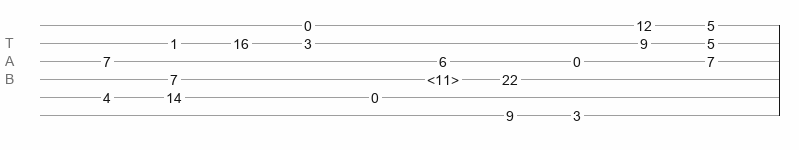0: (304, 18, 312, 28), (371, 90, 379, 100), (573, 54, 581, 64)
1: (170, 36, 178, 46)
12: (636, 18, 652, 28)
14: (166, 90, 182, 100)
16: (233, 36, 249, 46)
22: (502, 72, 518, 82)
3: (304, 36, 312, 46), (573, 108, 581, 118)
4: (103, 90, 111, 100)
5: (707, 18, 715, 28), (707, 36, 715, 46)
6: (439, 54, 447, 64)
7: (103, 54, 111, 64), (170, 72, 178, 82), (707, 54, 715, 64)
9: (506, 108, 514, 118), (640, 36, 648, 46)
harmonic: (427, 72, 459, 82)
